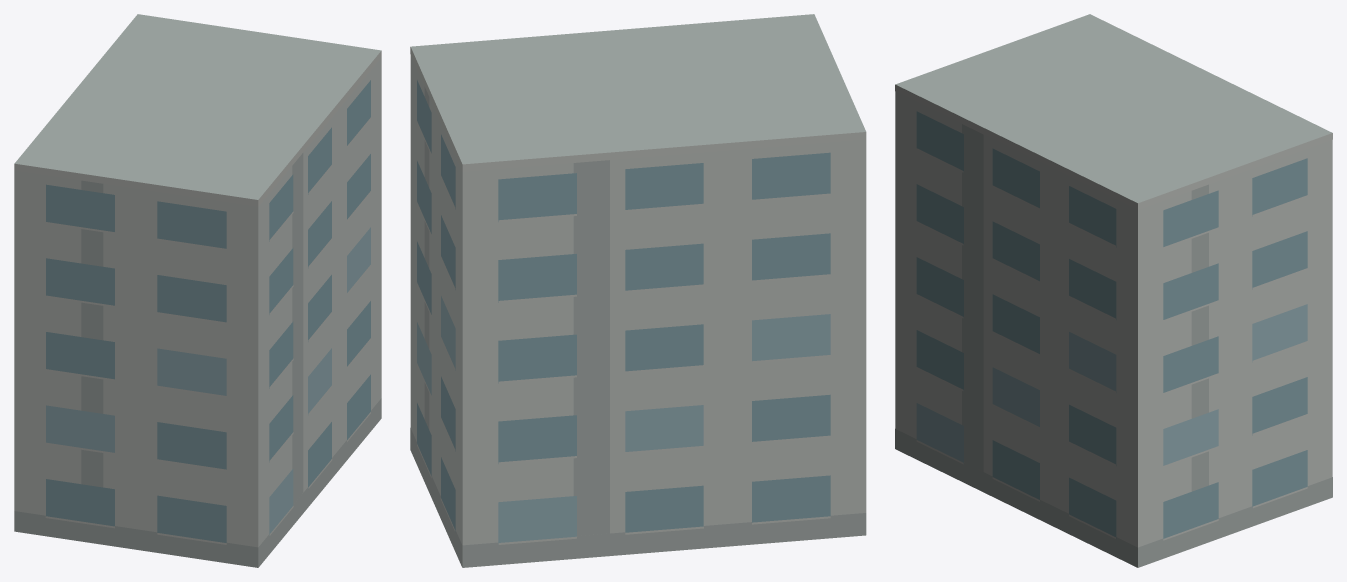
Rendered from survey-upis-32736578.glb.
3 renders of one model, left to right at view 1: azimuth 30°, elevation 25°; view 2: azimuth 150°, elevation 25°; view 3: azimuth 270°, elevation 25°, orthographic. The views are drawn at different scales.
Visible parts, largest first — view 1: survey-upis-32736578.tmp; view 2: survey-upis-32736578.tmp; view 3: survey-upis-32736578.tmp.
Boxes of the visible parts, box(x1,y1,x2,y2) form: survey-upis-32736578.tmp: box(14, 14, 381, 567); survey-upis-32736578.tmp: box(410, 14, 866, 567); survey-upis-32736578.tmp: box(895, 14, 1332, 567).
Bounding box in the file's own units: 14.48 × 13 × 14.14.
